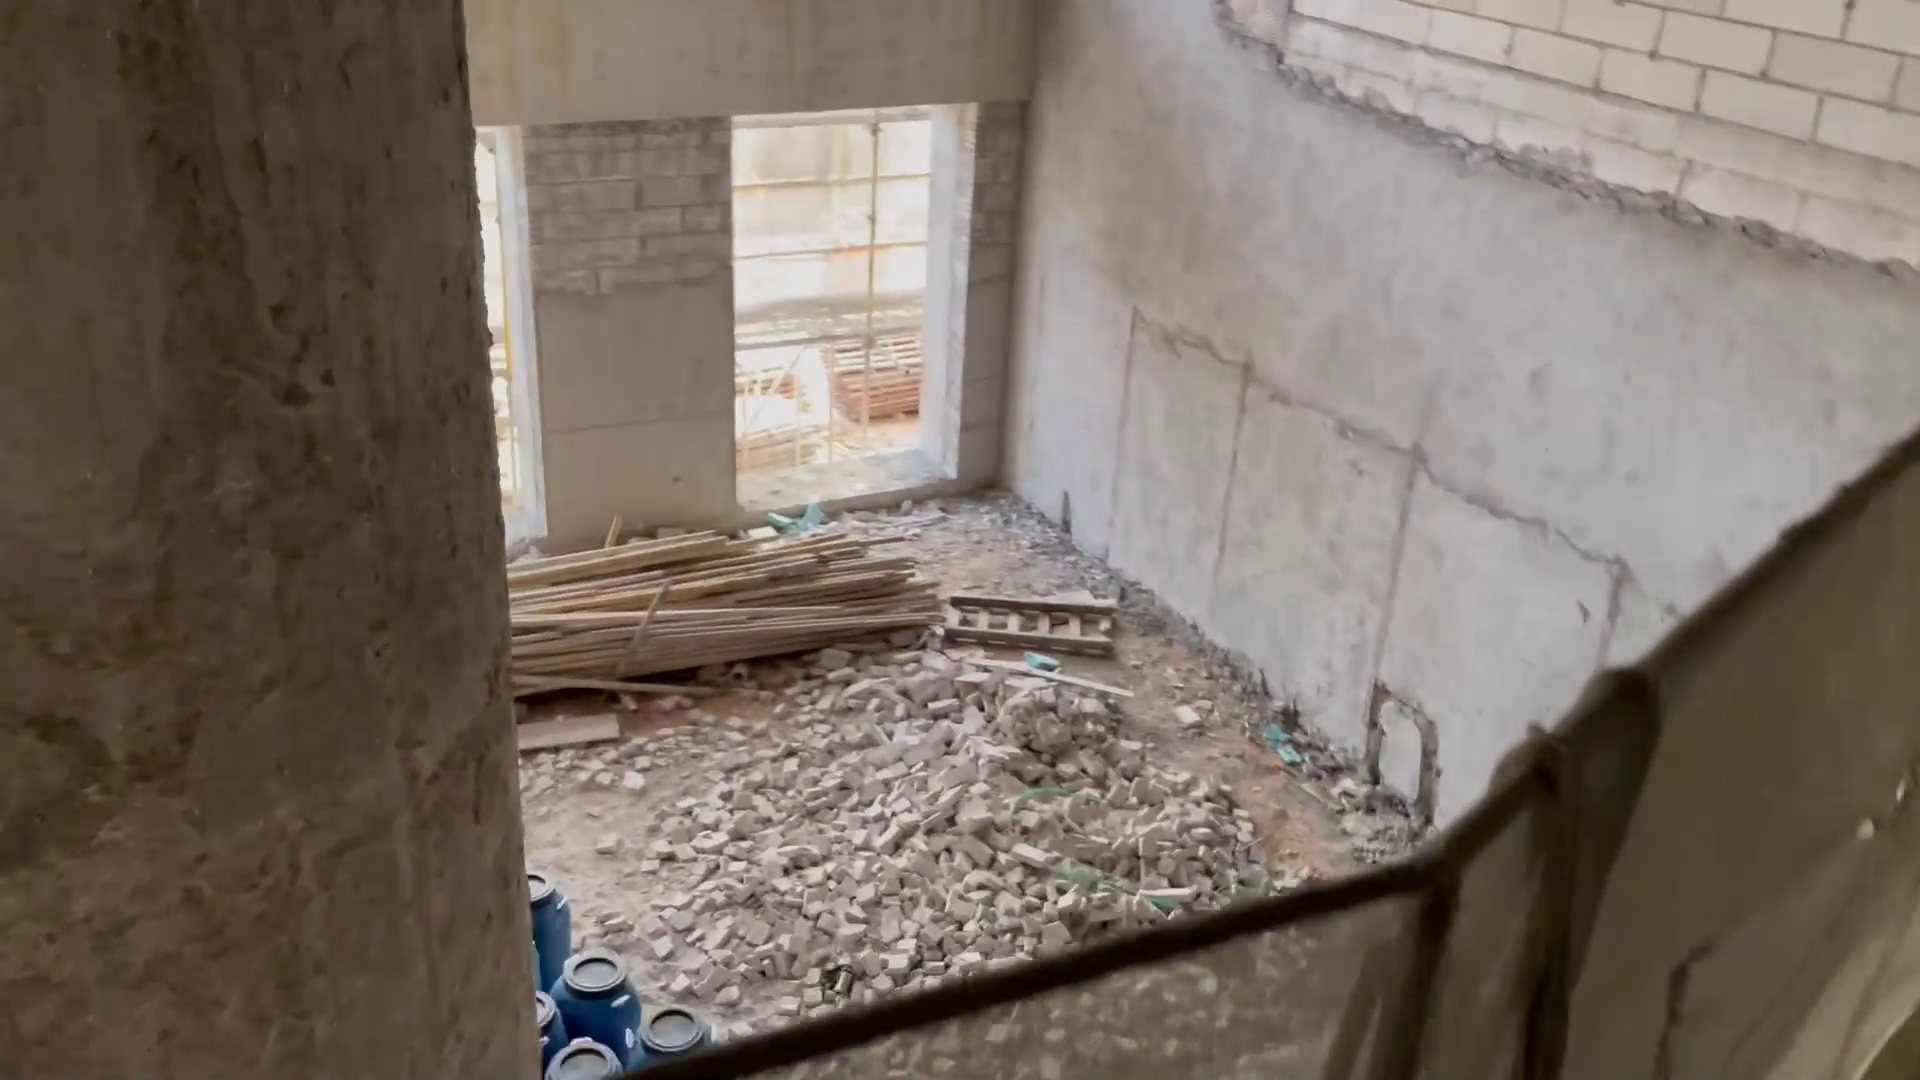wood: (520, 545, 942, 680), (738, 394, 812, 456)
